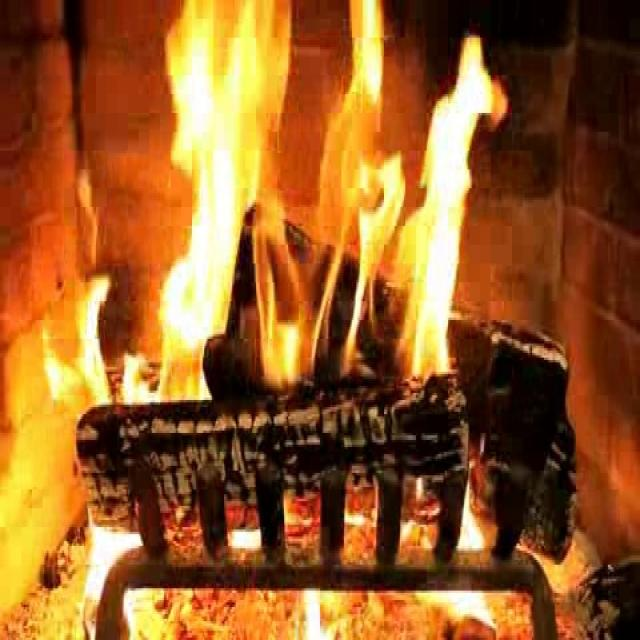fire: (136, 46, 504, 373)
